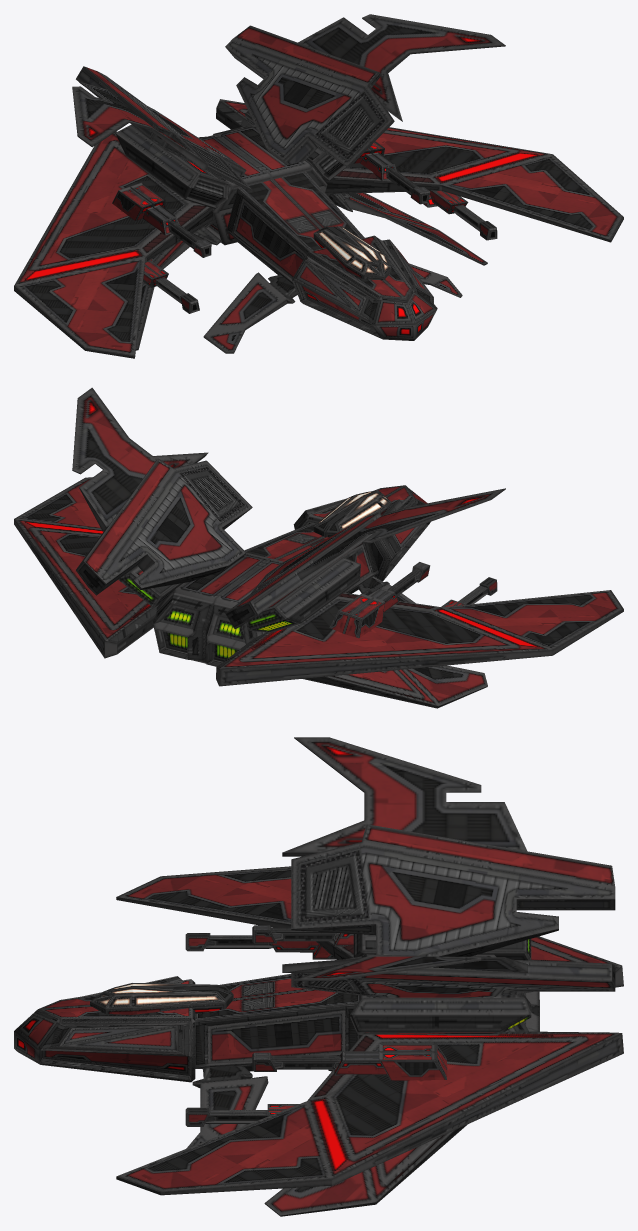
File: BFP_SmallStarship03.FBX
The picture shows the model from 3 angles, top to bottom: view 1: azimuth 30°, elevation 25°; view 2: azimuth 150°, elevation 25°; view 3: azimuth 270°, elevation 25°; orthographic projection. The views are drawn at different scales.
Parts seen in each view (by area): view 1: MainHullSection, UpperTailFinLeft, WingLargeRight, WingLargeLeft, UpperTailFinRight, EngineRight, FrontLowerFins_Right, Cannon_UpperRight, UnderWingLeft, Cannon_UpperLeft, UnderWingRight, Cannon_LowerLeft (+3 smaller); view 2: WingLargeRight, UpperTailFinLeft, MainHullSection, WingLargeLeft, UpperTailFinRight, UnderWingRight, EngineRight, Cannon_UpperRight, EngineLeft, Cannon_LowerRight, FrontLowerFins_Right; view 3: UpperTailFinRight, WingLargeLeft, MainHullSection, UpperTailFinLeft, WingLargeRight, EngineLeft, UnderWingLeft, Cannon_UpperLeft, FrontLowerFins_Left, Cannon_LowerRight, Cannon_LowerLeft, Cannon_UpperRight (+1 smaller).
Part boxes in pixels (x1,y1,x2,y2): MainHullSection: (198, 125, 437, 340); UpperTailFinLeft: (225, 14, 505, 167); WingLargeRight: (14, 131, 213, 358); WingLargeLeft: (216, 99, 623, 242); UpperTailFinRight: (72, 66, 252, 191); EngineRight: (115, 124, 229, 208); FrontLowerFins_Right: (203, 272, 297, 353); Cannon_UpperRight: (112, 182, 211, 257); UnderWingLeft: (326, 193, 487, 265); Cannon_UpperLeft: (353, 141, 430, 204); UnderWingRight: (136, 216, 221, 350); Cannon_LowerLeft: (423, 190, 497, 240); WingLargeRight: (216, 590, 623, 686); UpperTailFinLeft: (72, 387, 252, 595); MainHullSection: (153, 485, 430, 666); WingLargeLeft: (14, 477, 158, 658); UpperTailFinRight: (225, 488, 505, 628); UnderWingRight: (302, 665, 487, 708); EngineRight: (246, 557, 360, 632); Cannon_UpperRight: (329, 562, 430, 638); EngineLeft: (118, 565, 182, 607); Cannon_LowerRight: (441, 577, 497, 607); FrontLowerFins_Right: (358, 576, 415, 603); UpperTailFinRight: (282, 737, 615, 956); WingLargeLeft: (116, 1031, 623, 1195); MainHullSection: (14, 954, 539, 1082); UpperTailFinLeft: (282, 954, 615, 997); WingLargeRight: (116, 866, 623, 987); EngineLeft: (350, 997, 531, 1034); UnderWingLeft: (264, 1069, 467, 1216); Cannon_UpperLeft: (252, 1043, 447, 1080); FrontLowerFins_Left: (186, 1066, 268, 1148); Cannon_LowerRight: (185, 933, 335, 959); Cannon_LowerLeft: (185, 1104, 298, 1126); Cannon_UpperRight: (252, 925, 353, 946).
Size of the model in its own units: 324 by 120 by 264.
Materials: 1 (1 with a texture image).
